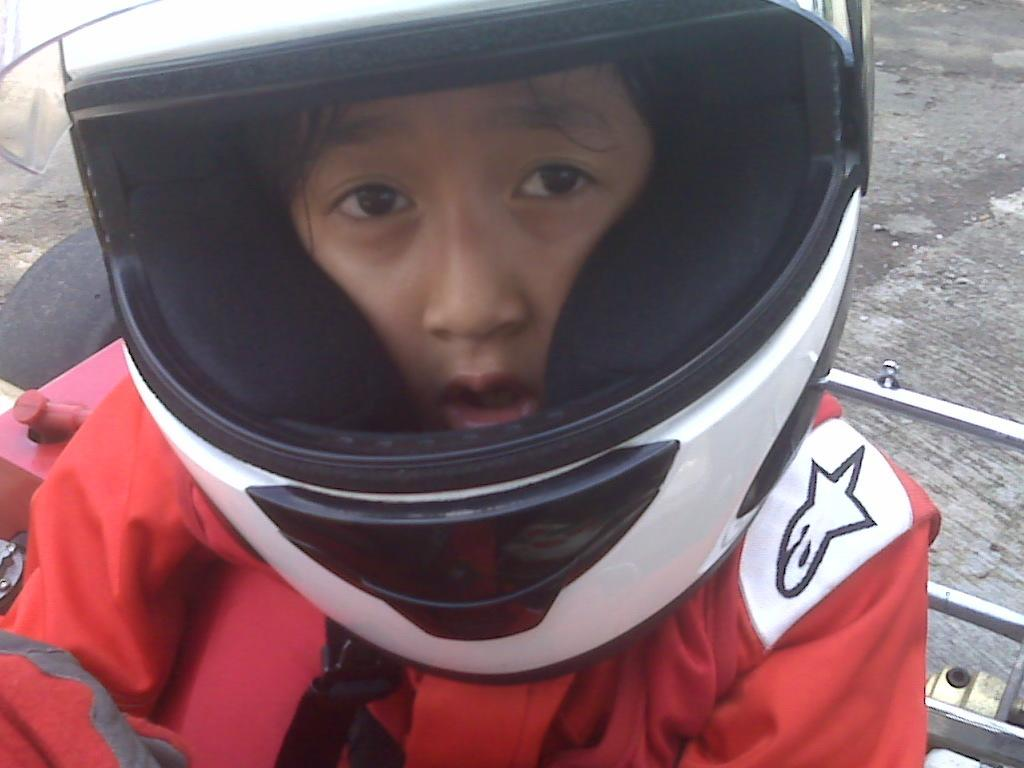helmet: (54, 0, 876, 685)
